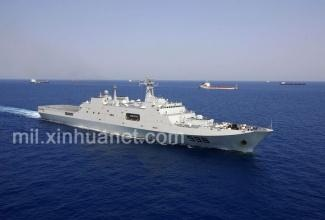warship: (33, 80, 272, 151)
